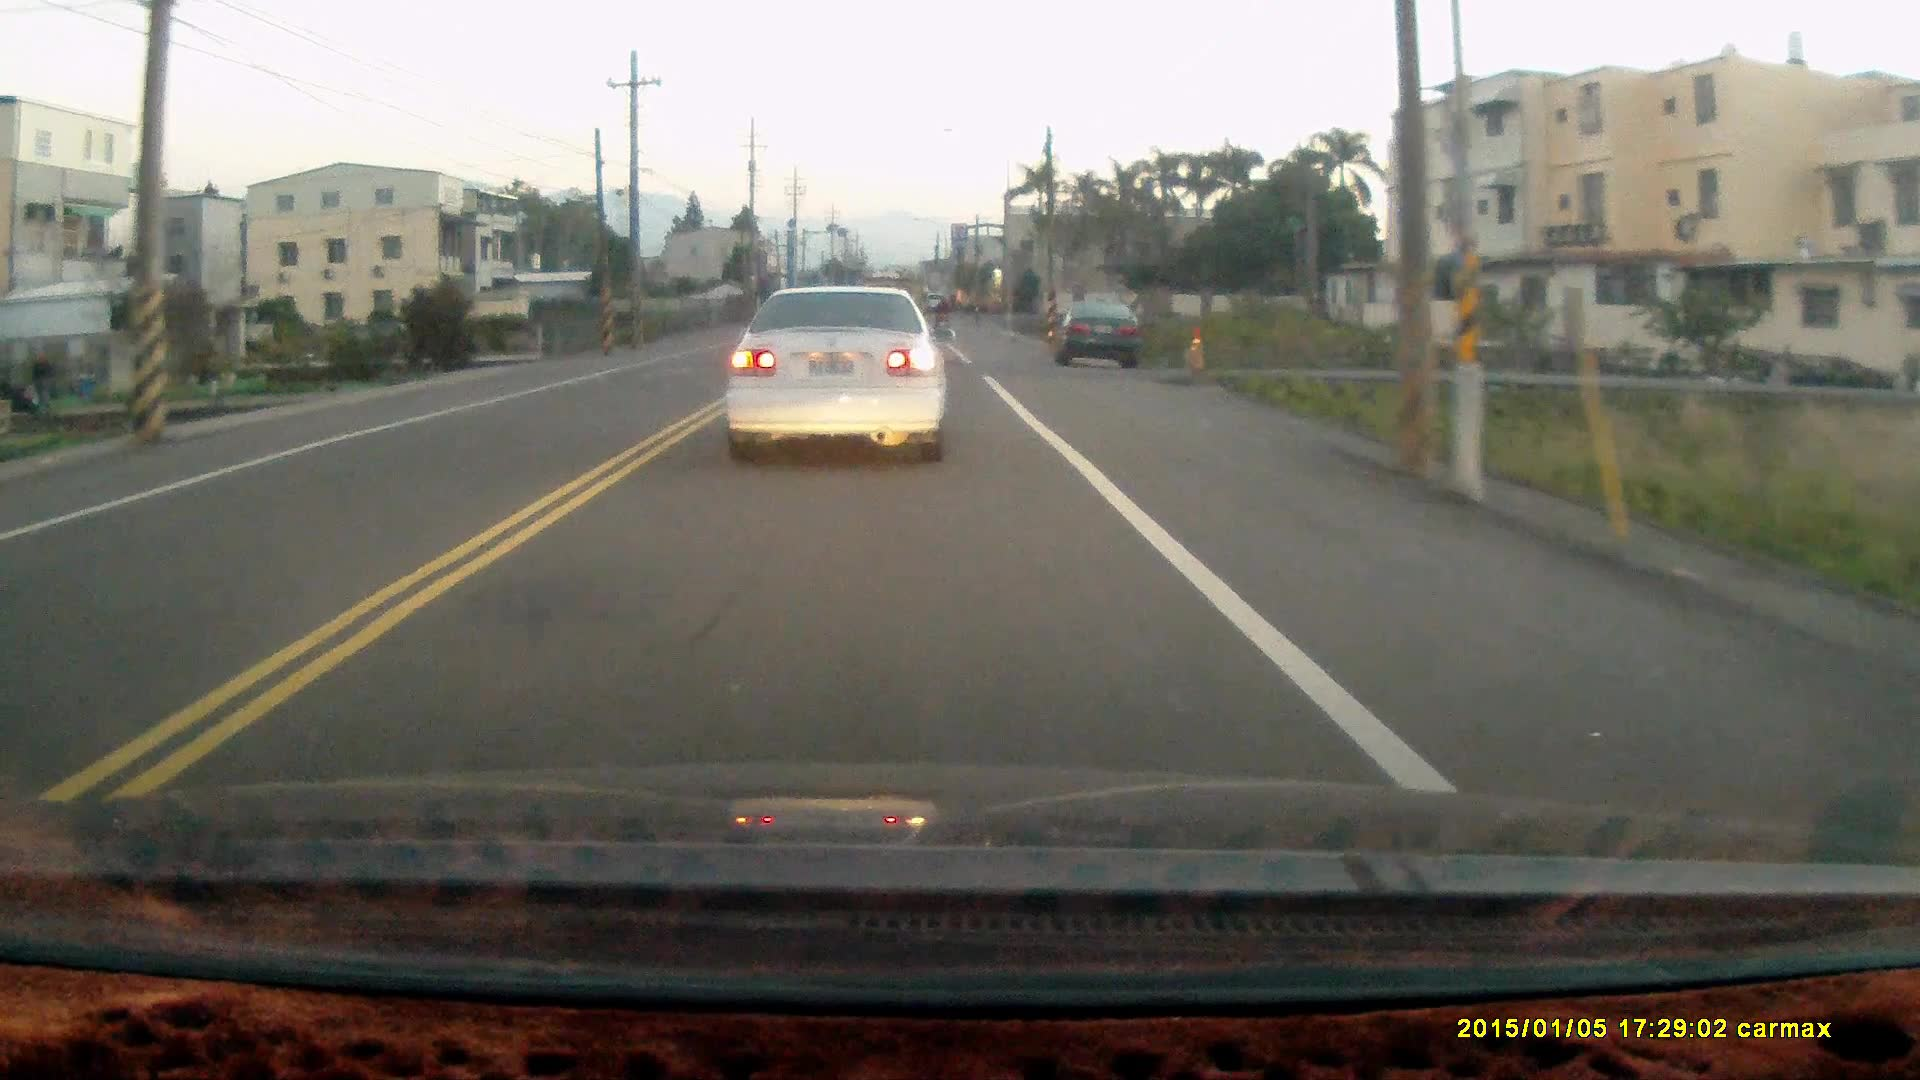pedestrian: (28, 344, 54, 410)
vehicle: (721, 280, 952, 470), (1052, 294, 1142, 366)
